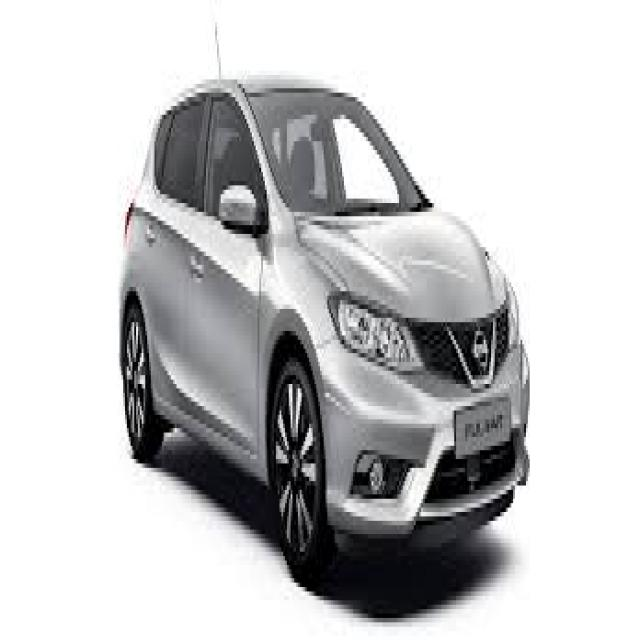Car: (115, 70, 535, 568)
